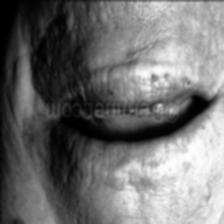Unclassified: (13, 55, 39, 98), (54, 8, 76, 34), (6, 210, 28, 224), (80, 0, 104, 10)
